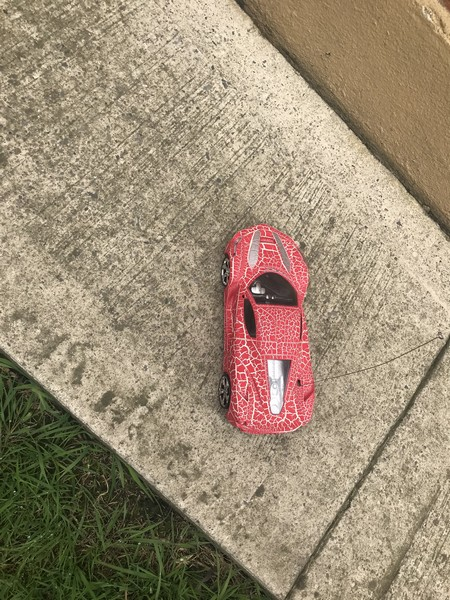RC: (217, 221, 317, 435)
